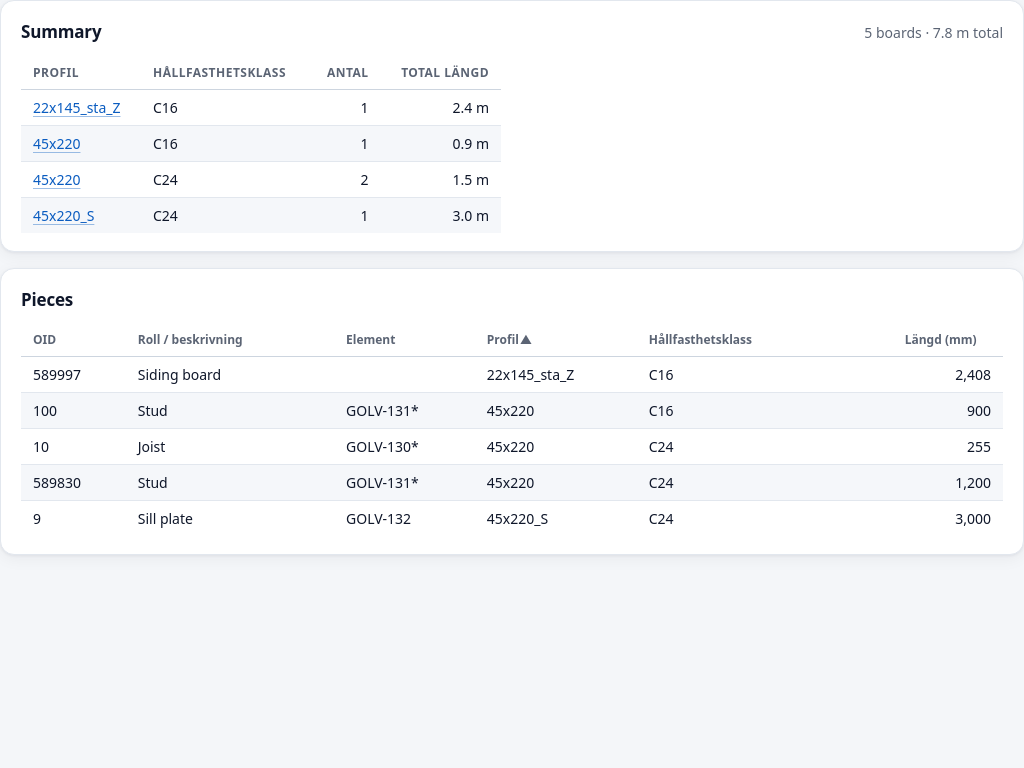
it: BoardsPanel › filters the pieces to a summary group and clears the filter
This screenshot has width=1024, height=768.
Click the button named "45x220 C24": [57, 179] box [33,168,80,190]
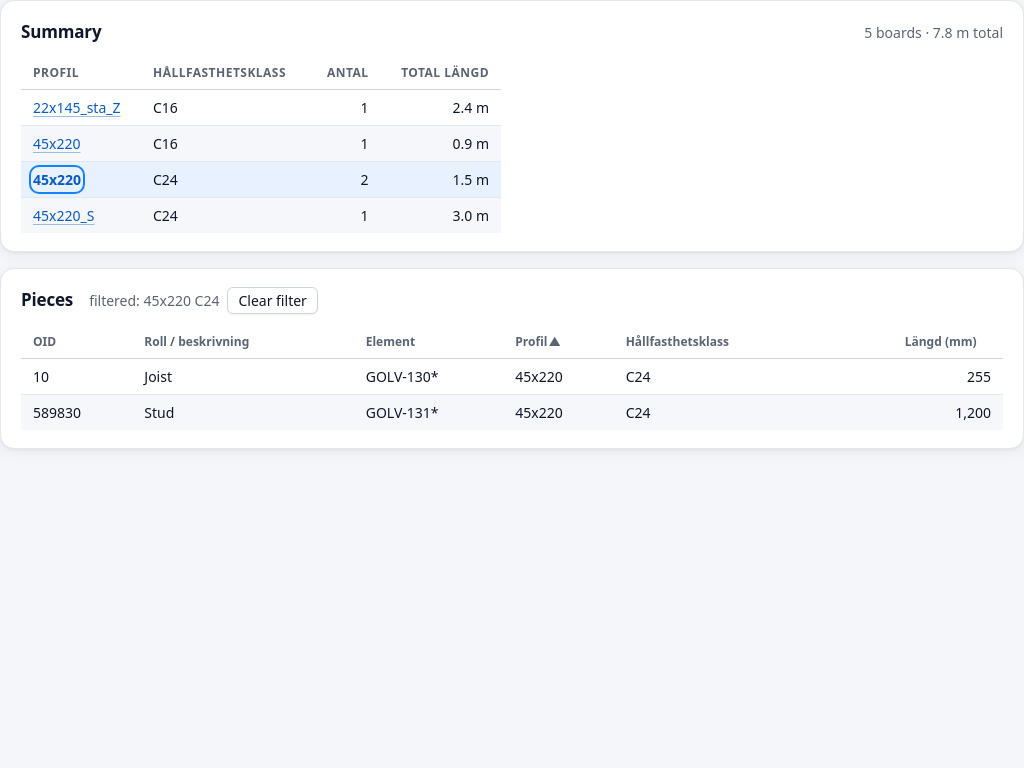
Result: the text "filtered: 45x220 C24" is shown at [89,286,318,314]
Click the button "Clear filter": [273, 300] box [228,286,318,314]
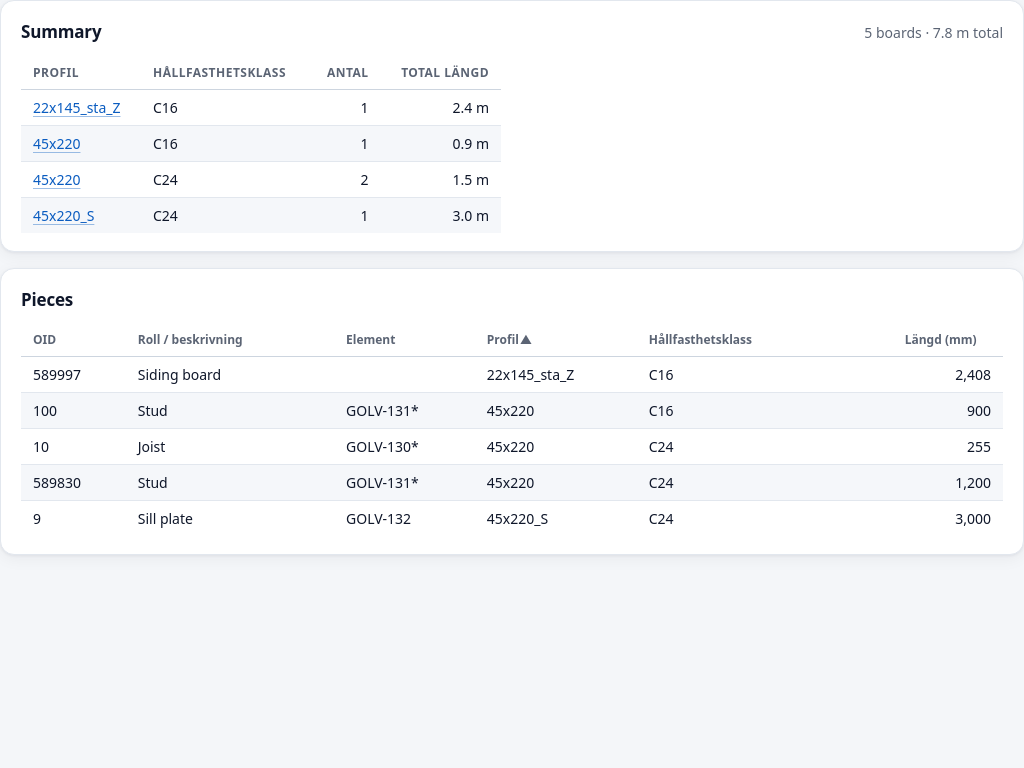
Result: the text "filtered:" is gone
